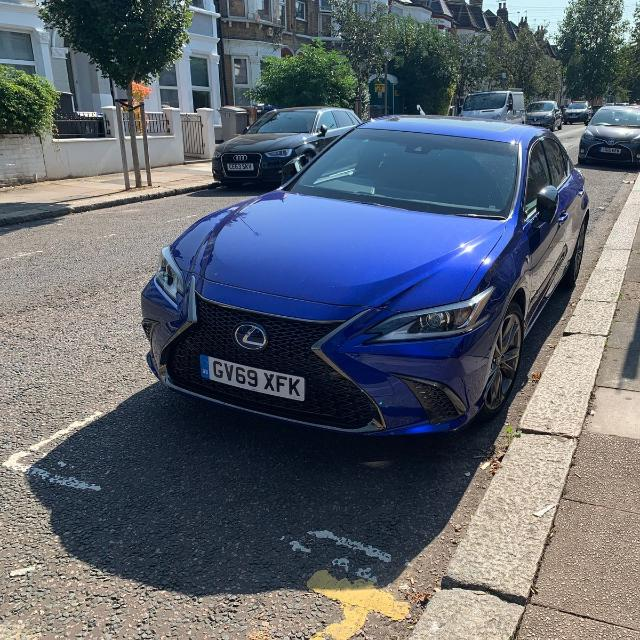lexus: (142, 113, 590, 440)
